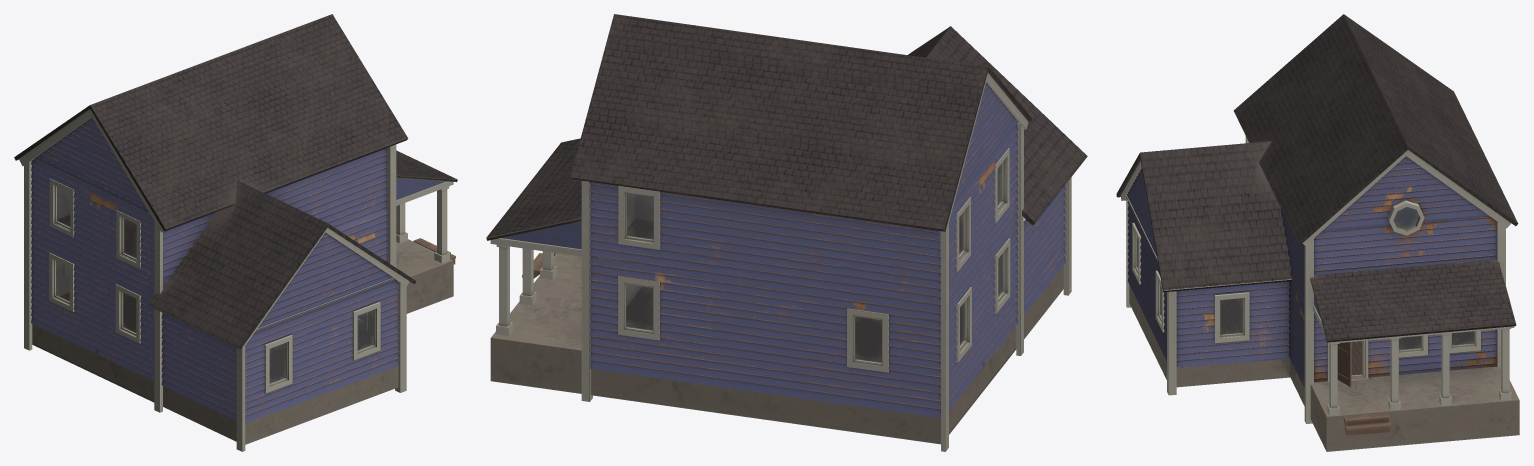
Rendered from house.glb.
The picture shows the model from 3 angles, left to right: view 1: azimuth 30°, elevation 25°; view 2: azimuth 150°, elevation 25°; view 3: azimuth 270°, elevation 25°; orthographic projection. The views are drawn at different scales.
Parts seen in each view (by area): view 1: Plane.012, Plane.035, Plane.017, Cube.044, Cube.023; view 2: Plane.012, Plane.035, Plane.017, Cube.044, Cube.023; view 3: Plane.012, Plane.035, Plane.017, Cube.044, Cube.023.
Part boxes in pixels (left/top/right/bottom): Plane.012: left=14, top=14, right=457, bottom=451; Plane.035: left=31, top=117, right=398, bottom=422; Plane.017: left=32, top=156, right=453, bottom=444; Cube.044: left=49, top=178, right=455, bottom=393; Cube.023: left=56, top=187, right=373, bottom=383; Plane.012: left=486, top=14, right=1087, bottom=451; Plane.035: left=590, top=82, right=1065, bottom=417; Plane.017: left=490, top=120, right=1063, bottom=444; Cube.044: left=496, top=148, right=1010, bottom=372; Cube.023: left=626, top=163, right=1003, bottom=362; Plane.012: left=1116, top=14, right=1518, bottom=423; Plane.035: left=1127, top=156, right=1497, bottom=387; Plane.017: left=1125, top=195, right=1519, bottom=451; Cube.044: left=1132, top=200, right=1511, bottom=435; Cube.023: left=1136, top=237, right=1474, bottom=350.
Bounding box in the file's own units: 11.5 × 7.84 × 10.52.
Materials: 6 (5 with a texture image).
